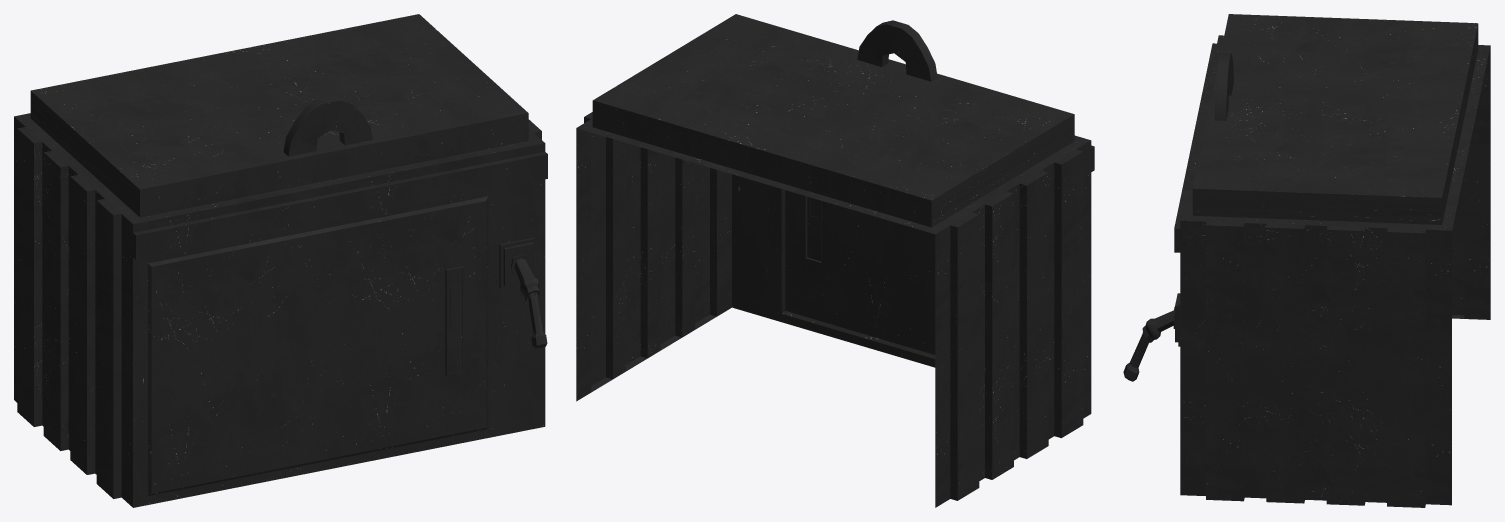
Rendered from main_fireplace.fbx.
3 views of the same model, side by side, from view 1: azimuth 30°, elevation 25°; view 2: azimuth 150°, elevation 25°; view 3: azimuth 270°, elevation 25° (orthographic). The views are drawn at different scales.
Parts seen in each view (by area): view 1: fireplace; view 2: fireplace; view 3: fireplace.
Boxes of the visible parts, box(x1,y1,x2,y2) form: fireplace: box(14, 14, 547, 507); fireplace: box(576, 14, 1094, 507); fireplace: box(1123, 14, 1490, 507).
Size of the model in its own units: 4 by 3.22 by 3.09.
